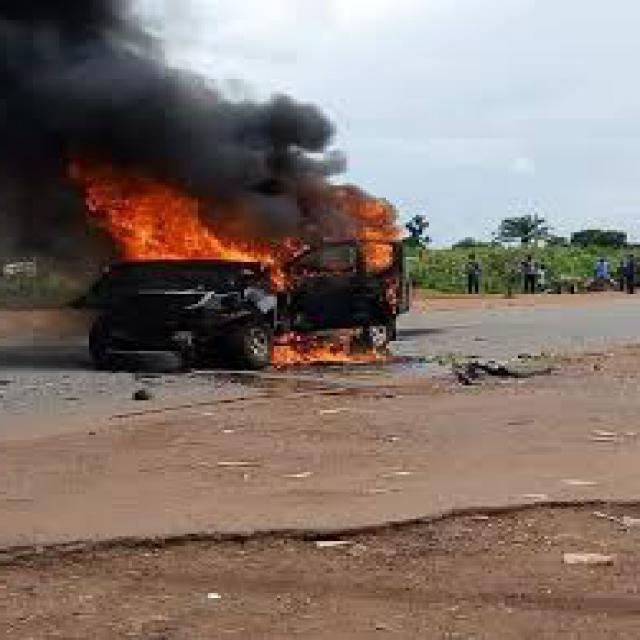Fire: (83, 153, 420, 365)
Smoke: (0, 22, 337, 310)
